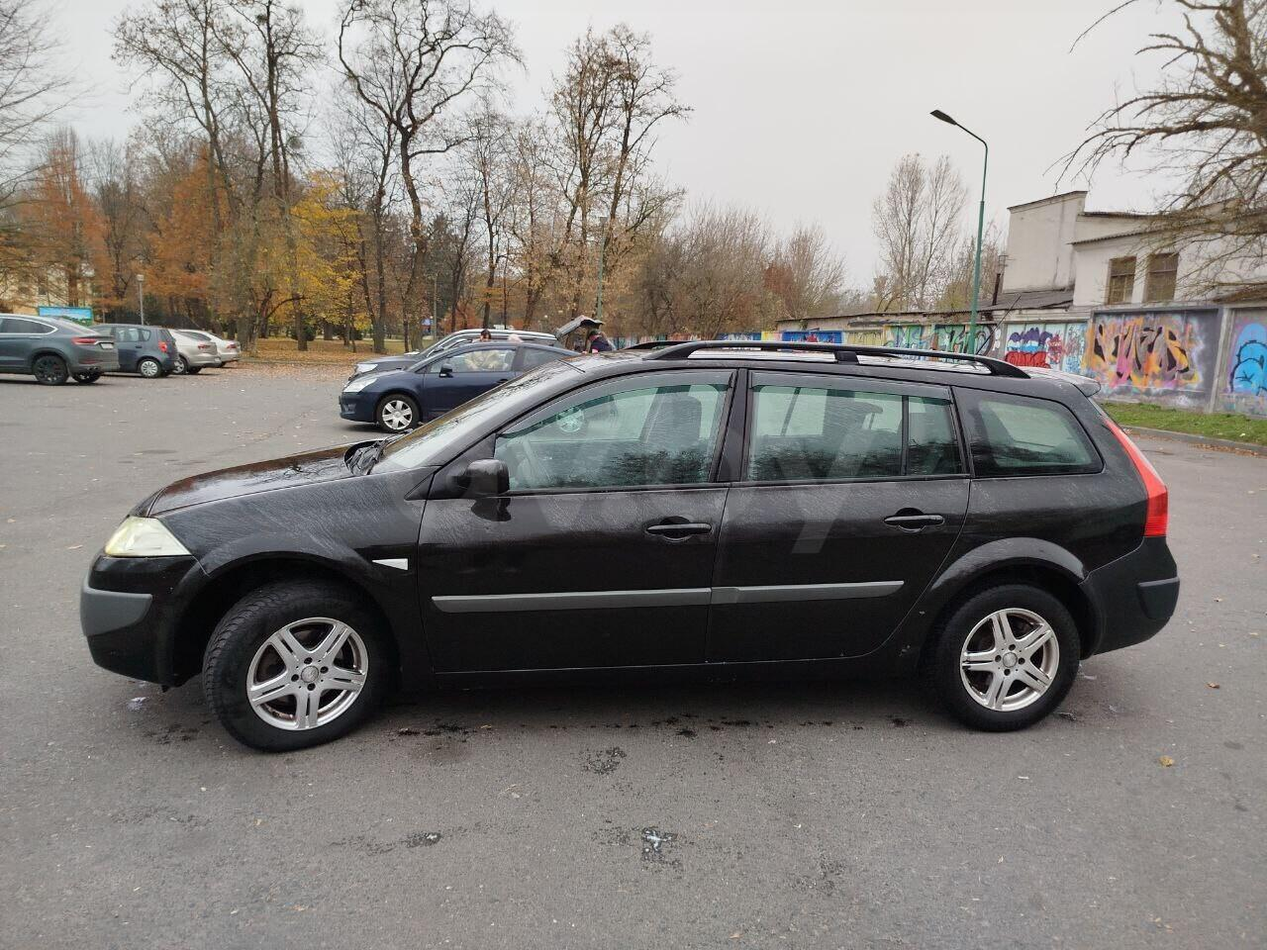Megane_2005-2009: (79, 345, 1179, 771)
